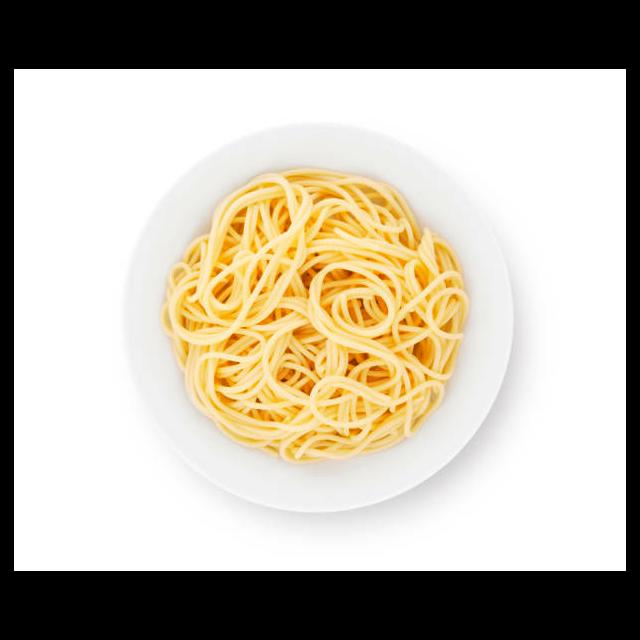noodles: (161, 170, 473, 465)
